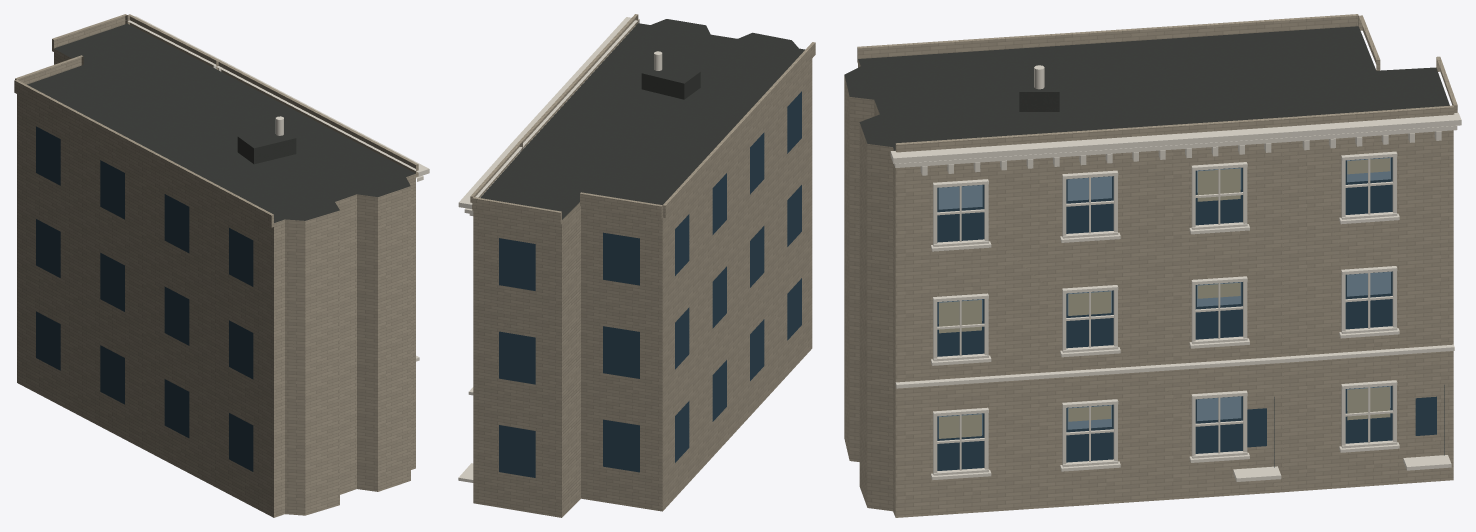
3 renders of one model, left to right at view 1: azimuth 30°, elevation 25°; view 2: azimuth 150°, elevation 25°; view 3: azimuth 270°, elevation 25°, orthographic. The views are drawn at different scales.
Parts seen in each view (by area): view 1: Footprint 0 / surface 2, Footprint 0 / surface 1, Inset glazing, Facade bay volumes, Cornices and window frames, Inferred rooftop service enclosure / surface 5, Inferred rooftop service enclosure / surface 3; view 2: Footprint 0 / surface 2, Footprint 0 / surface 1, Inset glazing, Facade bay volumes, Cornices and window frames, Inferred rooftop service enclosure / surface 6, Inferred rooftop service enclosure / surface 3; view 3: Footprint 0 / surface 2, Footprint 0 / surface 1, Cornices and window frames, Inset glazing, Facade bay volumes, Interior blind variation, Sky reflection panels, Inferred rooftop service enclosure / surface 3, Inferred rooftop service enclosure / surface 1.
Boxes of the visible parts, x1=… form: Footprint 0 / surface 2: x1=17, y1=48, x2=415, y2=517; Footprint 0 / surface 1: x1=27, y1=23, x2=415, y2=222; Inset glazing: x1=36, y1=126, x2=253, y2=471; Facade bay volumes: x1=14, y1=14, x2=418, y2=227; Cornices and window frames: x1=128, y1=16, x2=429, y2=361; Inferred rooftop service enclosure / surface 5: x1=254, y1=138, x2=296, y2=164; Inferred rooftop service enclosure / surface 3: x1=238, y1=127, x2=295, y2=148; Footprint 0 / surface 2: x1=473, y1=59, x2=812, y2=517; Footprint 0 / surface 1: x1=480, y1=19, x2=805, y2=219; Inset glazing: x1=499, y1=91, x2=801, y2=477; Facade bay volumes: x1=470, y1=14, x2=815, y2=225; Cornices and window frames: x1=458, y1=17, x2=639, y2=482; Inferred rooftop service enclosure / surface 6: x1=641, y1=73, x2=684, y2=99; Inferred rooftop service enclosure / surface 3: x1=642, y1=62, x2=699, y2=83; Footprint 0 / surface 2: x1=844, y1=60, x2=1453, y2=517; Footprint 0 / surface 1: x1=844, y1=26, x2=1449, y2=150; Cornices and window frames: x1=890, y1=112, x2=1461, y2=481; Inset glazing: x1=937, y1=157, x2=1436, y2=470; Facade bay volumes: x1=857, y1=14, x2=1457, y2=152; Interior blind variation: x1=939, y1=158, x2=1390, y2=438; Sky reflection panels: x1=938, y1=157, x2=1390, y2=437; Inferred rooftop service enclosure / surface 3: x1=1019, y1=66, x2=1059, y2=91; Inferred rooftop service enclosure / surface 1: x1=1019, y1=92, x2=1059, y2=111.
Bounding box in the file's own units: 9.68 × 13.31 × 18.45.
